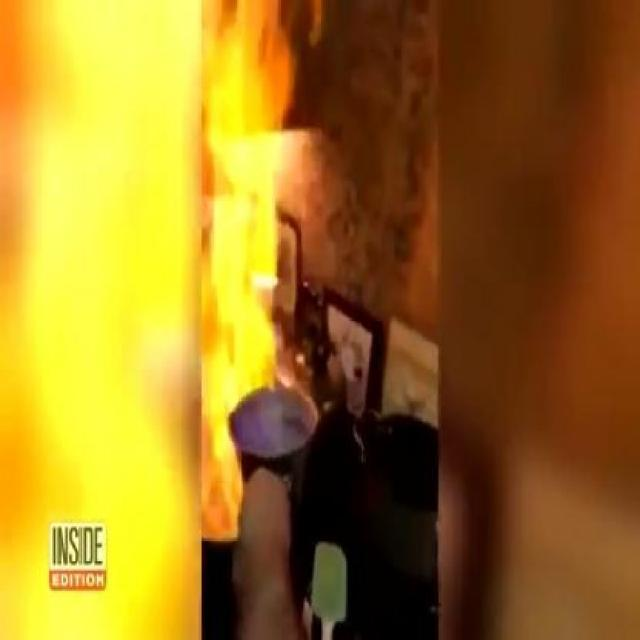fire: (208, 138, 282, 402)
